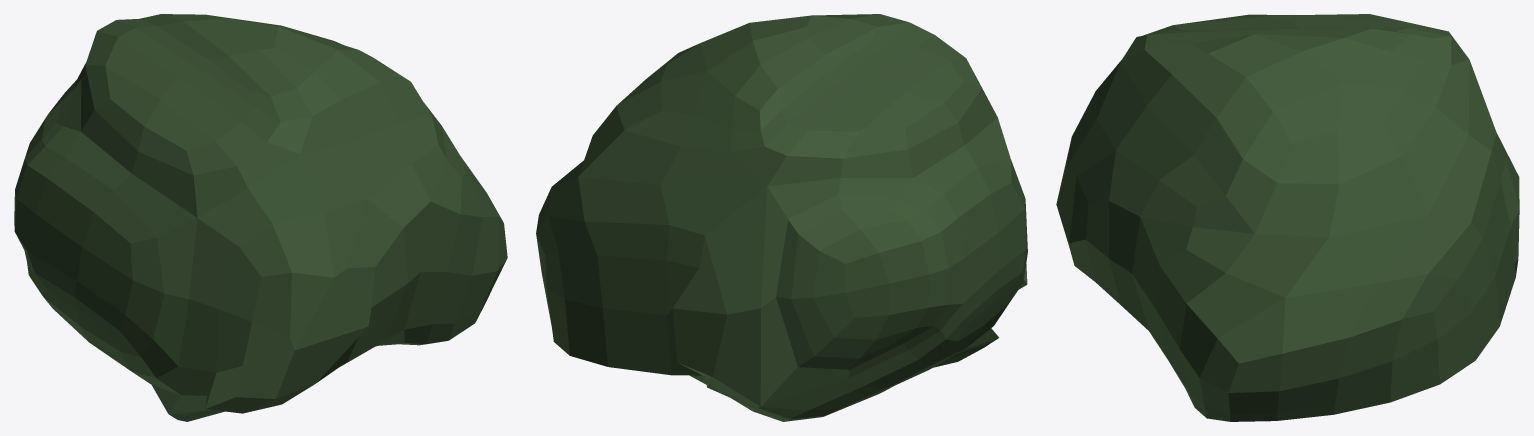
The model's file is plant.fbx.
3 renders of one model, left to right at view 1: azimuth 30°, elevation 25°; view 2: azimuth 150°, elevation 25°; view 3: azimuth 270°, elevation 25°, orthographic. The views are drawn at different scales.
Parts seen in each view (by area): view 1: plant; view 2: plant; view 3: plant.
Boxes of the visible parts, x1=… form: plant: x1=14, y1=14, x2=507, y2=421; plant: x1=536, y1=14, x2=1027, y2=421; plant: x1=1056, y1=14, x2=1519, y2=421.
Bounding box in the file's own units: 6.21 × 4.78 × 5.89.
